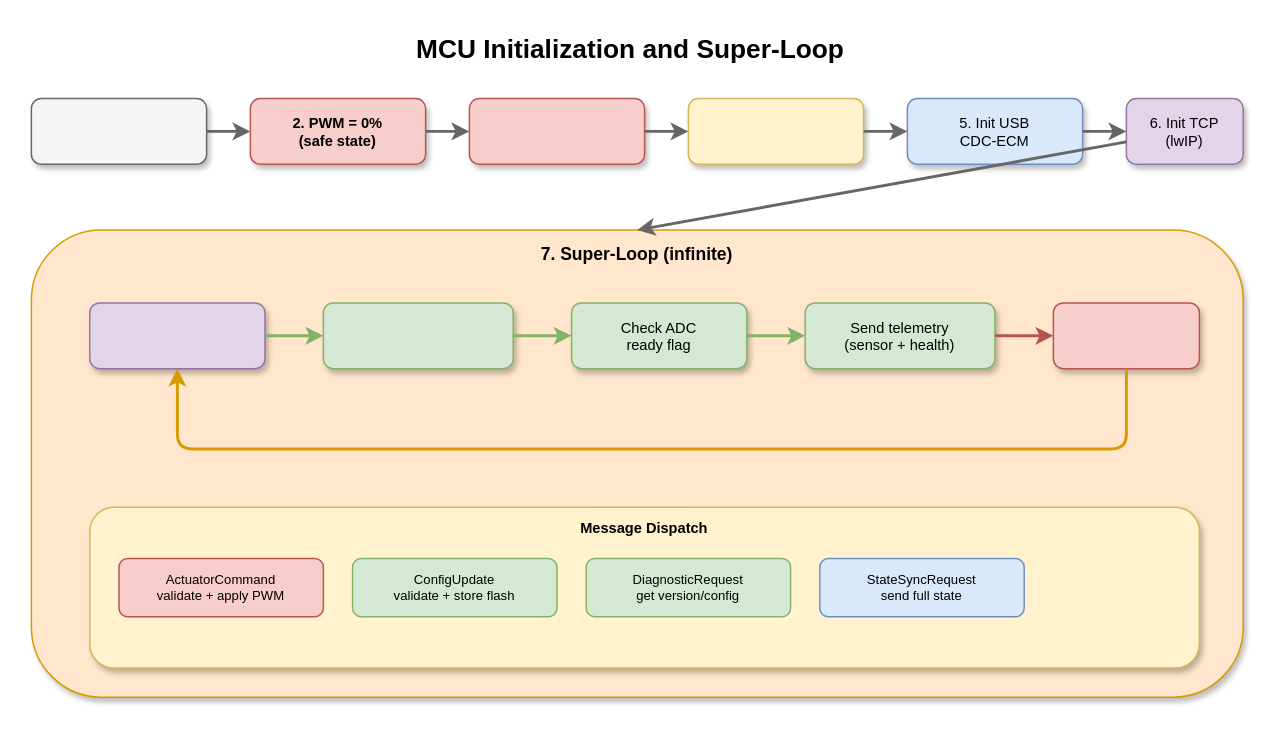
Image size: 1278x733. Some labels were removed from this diagram. Each missing label, with the centre of its shape:
1. HAL Init (clocks, GPIO): (119,132)
3. Init Watchdog (IWDG 2s): (557,132)
4. Load Config (flash + CRC): (776,132)
Feed Watchdog: (1127,337)
Poll lwIP (tcp_stack): (178,337)
Process received messages: (419,337)
